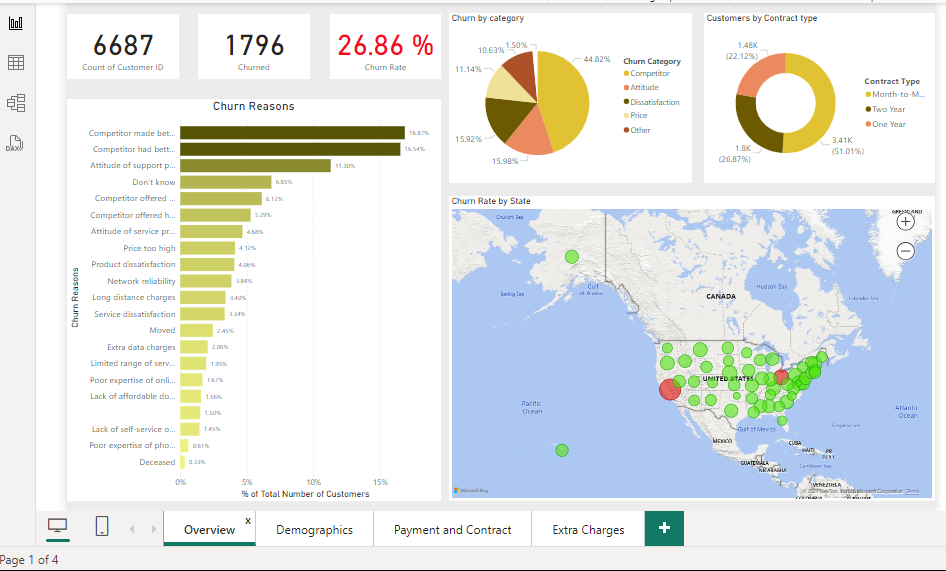

What the dashboard file says about the page in this screenshot:
{"tool":"powerbi","page":{"name":"Overview","canvas":[1640,960],"ordinal":5},"visuals":[{"type":"card","fields":{"Values":["Count(Databel - Data.Customer ID)"]},"box":[0,21,211.7,122.8],"z":0},{"type":"card","fields":{"Values":["Databel - Data.Churn Rate"]},"box":[497,21,209.8,122.8],"z":1000},{"type":"card","fields":{"Values":["Sum(Databel - Data.Churned)"]},"box":[247.6,21,211.7,122.8],"z":2000},{"type":"pieChart","title":"Churn by category","fields":{"Category":["Databel - Data.Churn Category"],"Y":["CountNonNull(Databel - Data.Churn Label)"]},"box":[721.9,18.9,459.2,321.3],"z":3000},{"type":"donutChart","title":"Customers by Contract type","fields":{"Y":["Count(Databel - Data.Customer ID)"],"Category":["Databel - Data.Contract Type"]},"box":[1203.8,18.9,436.5,321.3],"z":4000},{"type":"clusteredBarChart","title":"Churn Reasons","fields":{"Category":["Databel - Data.Churn Reason"],"Y":["CountNonNull(Databel - Data.Number of Customers in Group)"]},"box":[0,180.5,706.6,760.3],"z":5000},{"type":"map","fields":{"Category":["Databel - Data.State"],"Size":["Databel - Data.Churn Rate"]},"box":[721.9,364.7,918.4,576.4],"z":6000}]}

Visuals, with their boxes on the page's 1640x960 design canvas (x1, y1, x2, y2). These are canvas units, not pixel positions in the 946x571 screenshot, which may show the page scaled, cropped or inside an application window:
card - Count(Databel - Data.Customer ID): crop(0, 21, 212, 144)
card - Databel - Data.Churn Rate: crop(497, 21, 707, 144)
card - Sum(Databel - Data.Churned): crop(248, 21, 459, 144)
"Churn by category" pieChart: crop(722, 19, 1181, 340)
"Customers by Contract type" donutChart: crop(1204, 19, 1640, 340)
"Churn Reasons" clusteredBarChart: crop(0, 180, 707, 941)
map - Databel - Data.State x Databel - Data.Churn Rate: crop(722, 365, 1640, 941)
